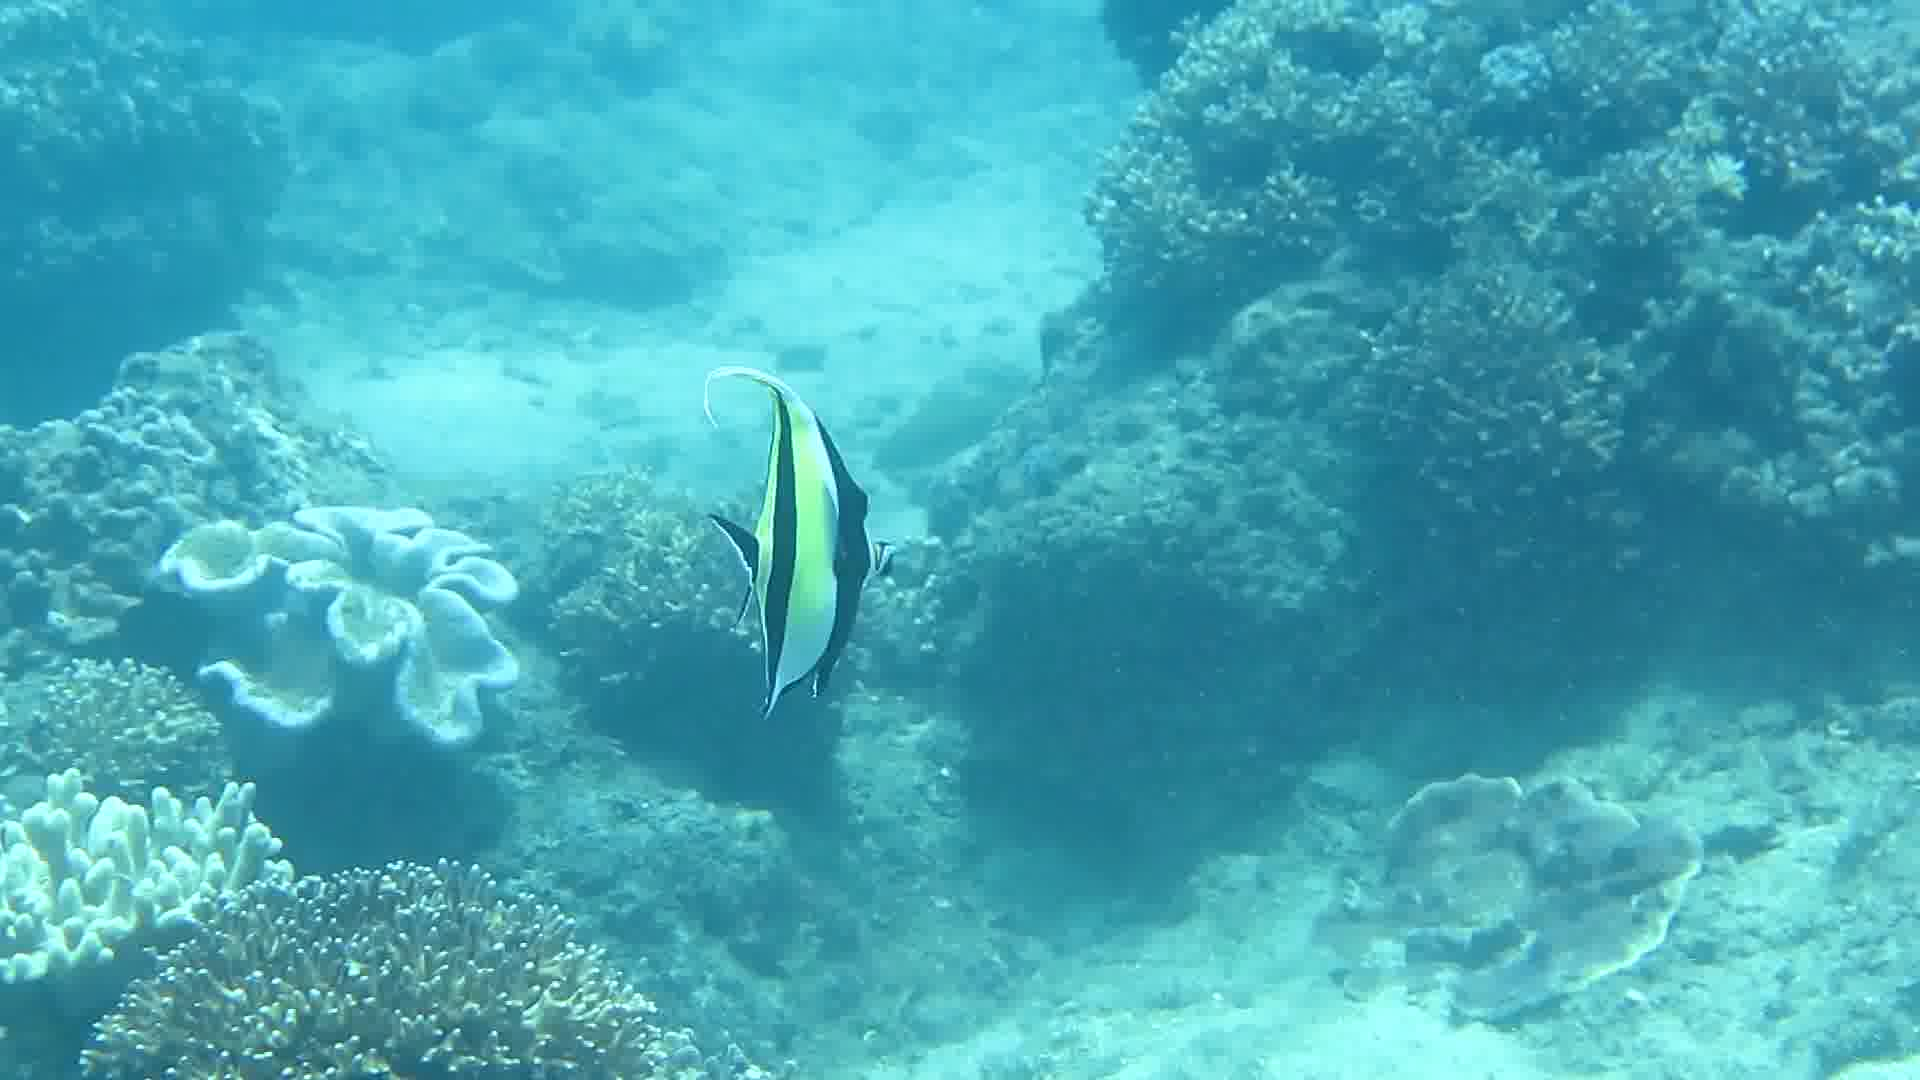Zanclus cornutus: (674, 361, 913, 725)
